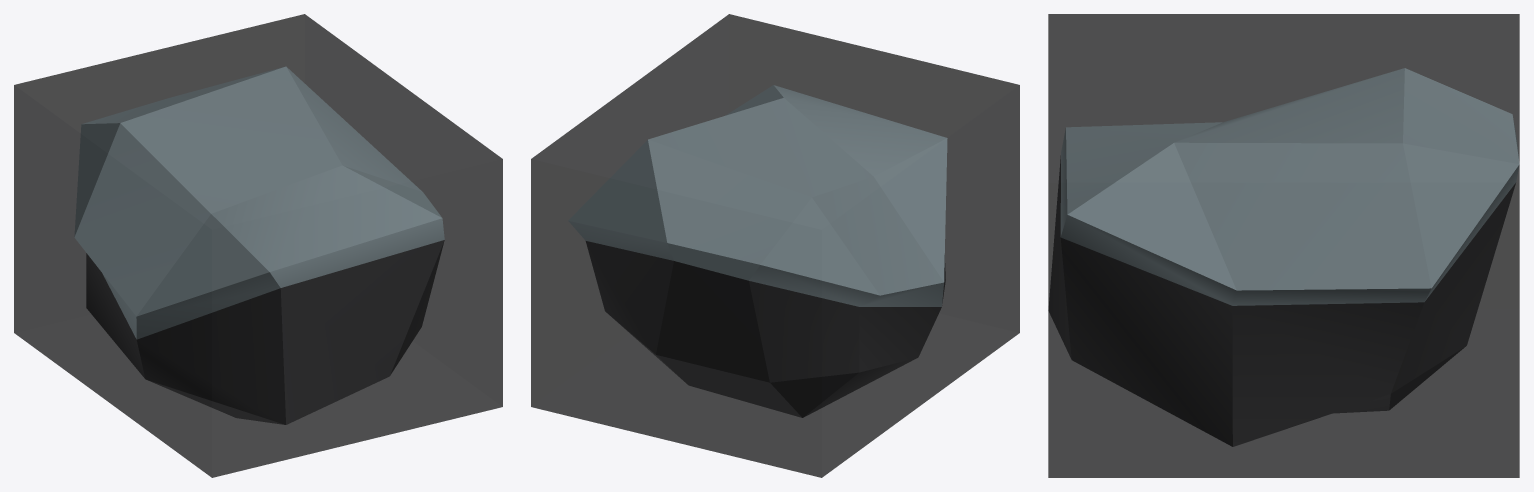
The model's file is Stone_1.fbx.
3 renders of one model, left to right at view 1: azimuth 30°, elevation 25°; view 2: azimuth 150°, elevation 25°; view 3: azimuth 270°, elevation 25°, orthographic. The views are drawn at different scales.
Parts seen in each view (by area): view 1: Stone_1_BBox, Stone_1; view 2: Stone_1_BBox, Stone_1; view 3: Stone_1_BBox, Stone_1.
Boxes of the visible parts, x1,y1,x2,y2 form: Stone_1_BBox: (14, 14, 502, 477); Stone_1: (74, 66, 444, 424); Stone_1_BBox: (531, 14, 1019, 477); Stone_1: (568, 85, 947, 417); Stone_1_BBox: (1048, 14, 1519, 477); Stone_1: (1048, 68, 1519, 446).
Size of the model in its own units: 5.38 by 4.39 by 6.35.
Materials: 2 (1 with a texture image).
